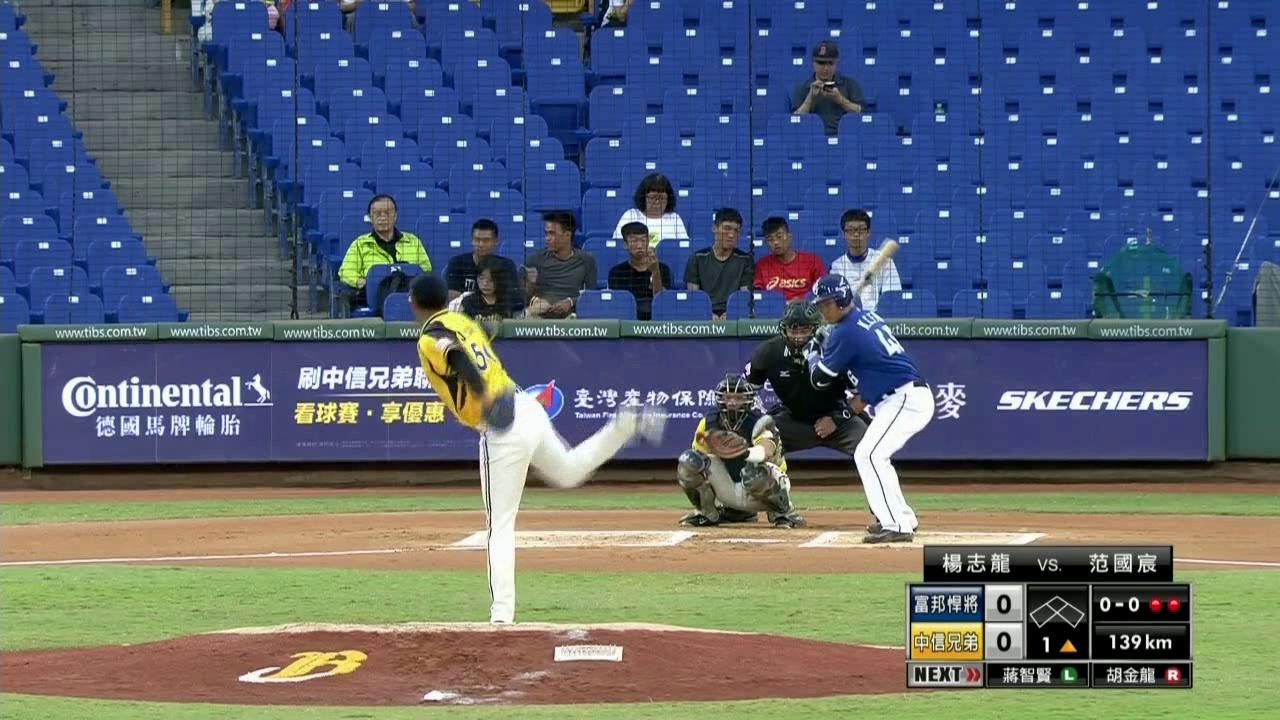base: (1028, 593, 1087, 629)
bat: (849, 238, 901, 303)
out: (1145, 595, 1182, 615)
score1: (985, 584, 1022, 619)
score2: (985, 622, 1022, 659)
session: (1038, 633, 1081, 653)
speed: (1105, 631, 1175, 652)
strikeball: (1096, 593, 1140, 614)
